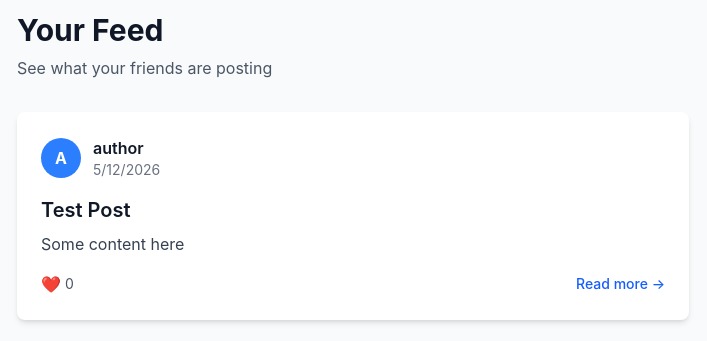
P3 — Like/unlike updates count correctly (Req 3.3) › should increment like count from 0 to 1 when like button is clicked
The image size is (707, 341).
Expected: the heading "Test Post" is shown, [41,198,130,222]
Note: Click the like button
What coordinates should you click on to do the following:
click the button "❤️ 0"
I would click on:
 (57, 284)
Its box is [41,272,74,296].
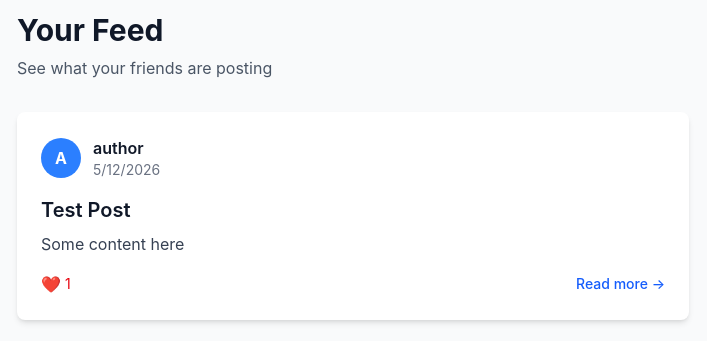
Result: the button "❤️ 1" is shown at [41,272,71,296]
